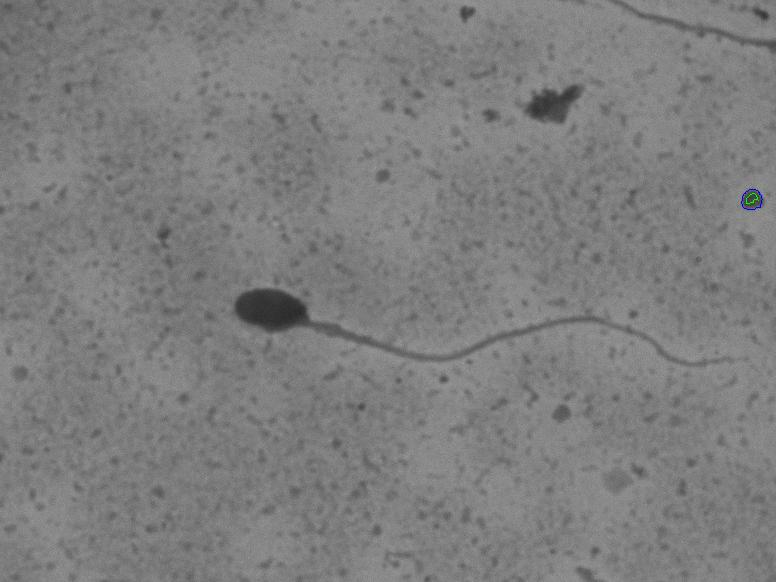Abnormal: (202, 259, 743, 412)
